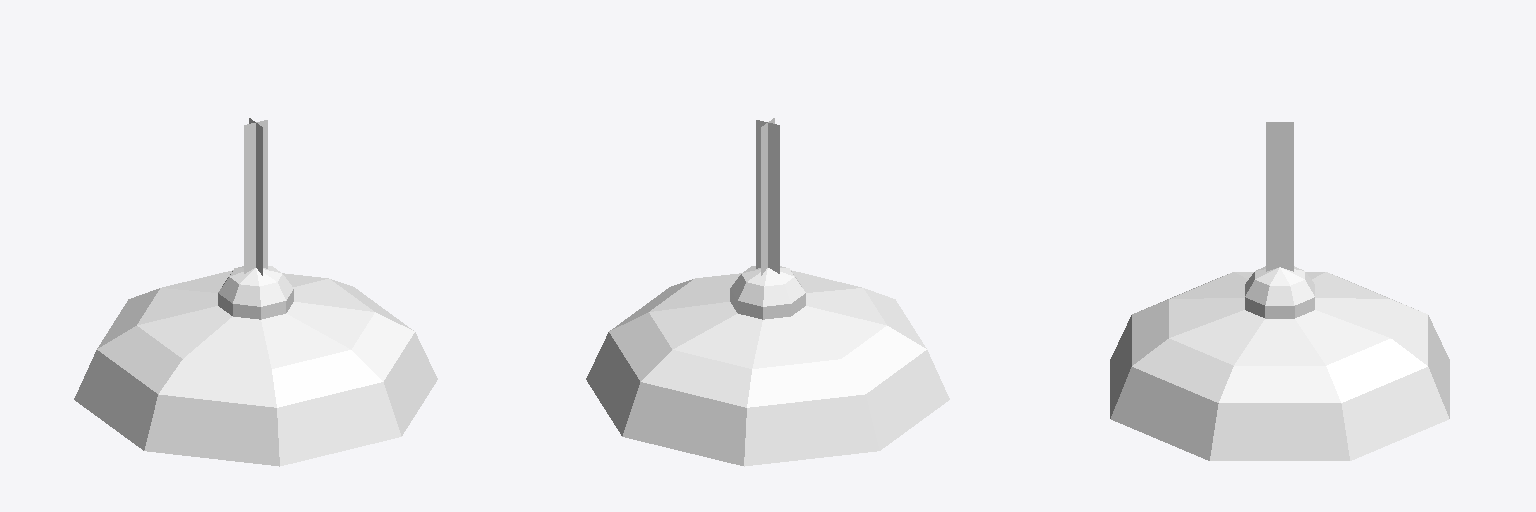
The model's file is street_lamp_ceiling.obj.
3 views of the same model, side by side, from view 1: azimuth 30°, elevation 25°; view 2: azimuth 150°, elevation 25°; view 3: azimuth 270°, elevation 25° (orthographic).
Parts seen in each view (by area): view 1: main_inner, main_outer, Support, Middle; view 2: main_inner, main_outer, Support, Middle; view 3: main_inner, main_outer, Support, Middle.
Boxes of the visible parts, <box> form: main_inner: <box>75,270,437,466</box>; main_outer: <box>74,271,436,465</box>; Support: <box>244,118,267,275</box>; Middle: <box>218,266,293,319</box>; main_inner: <box>587,270,949,466</box>; main_outer: <box>586,271,947,465</box>; Support: <box>756,118,779,275</box>; Middle: <box>730,266,805,319</box>; main_inner: <box>1110,272,1449,460</box>; main_outer: <box>1110,272,1449,460</box>; Support: <box>1266,122,1293,271</box>; Middle: <box>1245,266,1314,318</box>.
Size of the model in its own units: 0.75 by 0.6516 by 0.75.